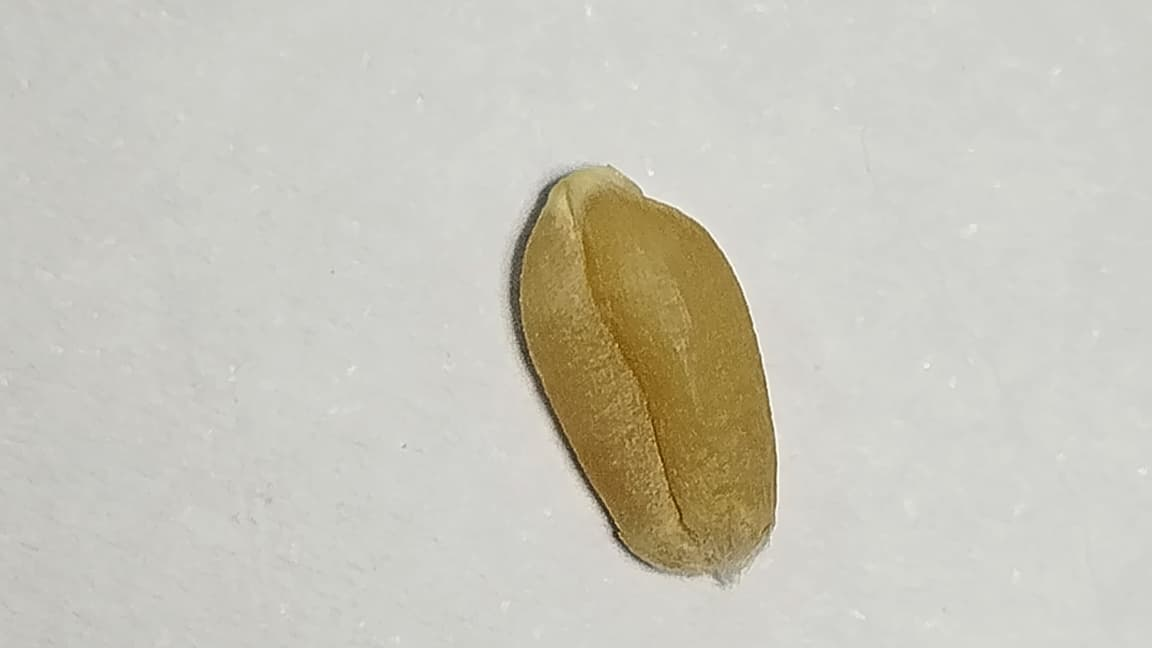healthy: (520, 167, 775, 573)
